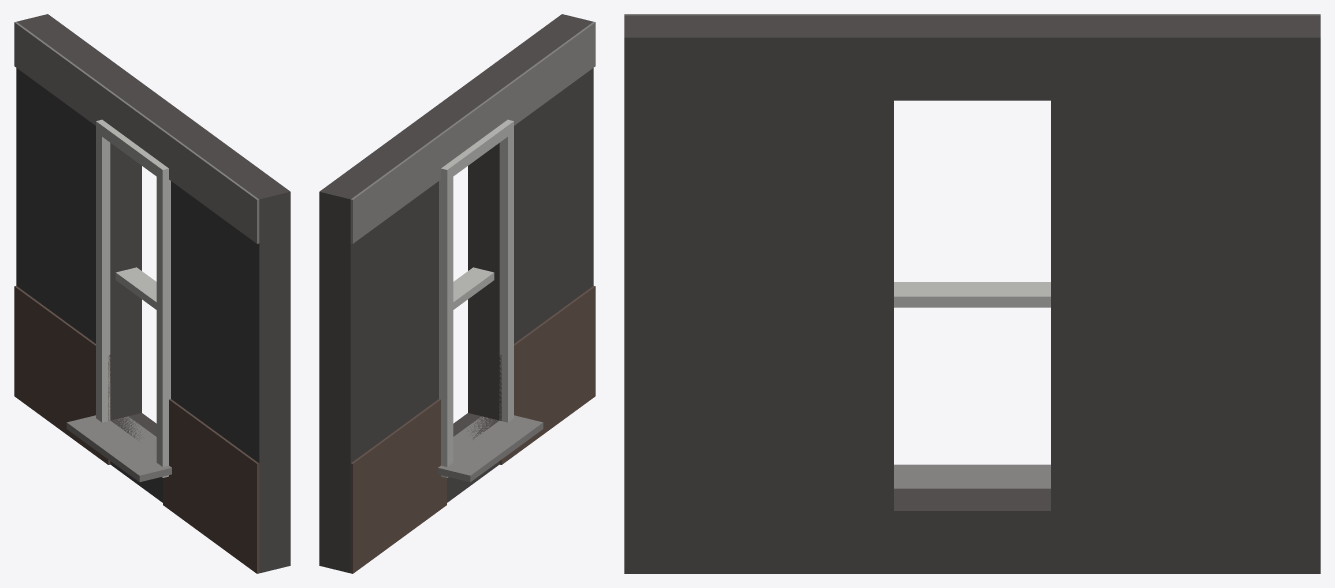
File: B_k_win_stair.glb
3 views of the same model, side by side, from view 1: azimuth 30°, elevation 25°; view 2: azimuth 150°, elevation 25°; view 3: azimuth 270°, elevation 25° (orthographic). The views are drawn at different scales.
Parts seen in each view (by area): view 1: Cube.002, Cube, Cube.006, Cube.003, Cube.001, Cube.008, Cube.007, Cube.010, Cube.005, Cube.004, Cube.009, Cube.011; view 2: Cube, Cube.002, Cube.006, Cube.001, Cube.003, Cube.007, Cube.008, Cube.010, Cube.005, Cube.004, Cube.009, Cube.011; view 3: Cube, Cube.002, Cube.005, Cube.004, Cube.011, Cube.010, Cube.006.
Part boxes in pixels (x1,y1,x2,y2): Cube.002: (165,123,290,573); Cube: (16,14,141,420); Cube.006: (14,21,259,243); Cube.003: (163,399,259,573); Cube.001: (14,285,110,464); Cube.008: (156,164,170,477); Cube.007: (96,119,110,422); Cube.010: (66,415,171,482); Cube.005: (111,83,196,130); Cube.004: (110,413,162,502); Cube.009: (96,123,168,180); Cube.011: (115,267,156,309); Cube: (319,123,444,573); Cube.002: (468,14,593,420); Cube.006: (350,21,595,243); Cube.001: (350,399,446,573); Cube.003: (499,285,595,464); Cube.007: (439,164,453,477); Cube.008: (499,119,513,422); Cube.010: (438,415,543,482); Cube.005: (413,83,498,130); Cube.004: (447,413,499,502); Cube.009: (441,124,507,180); Cube.011: (453,267,494,309); Cube: (1051,15,1320,573); Cube.002: (624,15,893,573); Cube.005: (892,15,1052,100); Cube.004: (892,488,1052,573); Cube.011: (894,282,1050,307); Cube.010: (894,464,1050,488); Cube.006: (624,14,1320,15).
Bounding box in the file's own units: 0.63 × 3.4 × 4.
